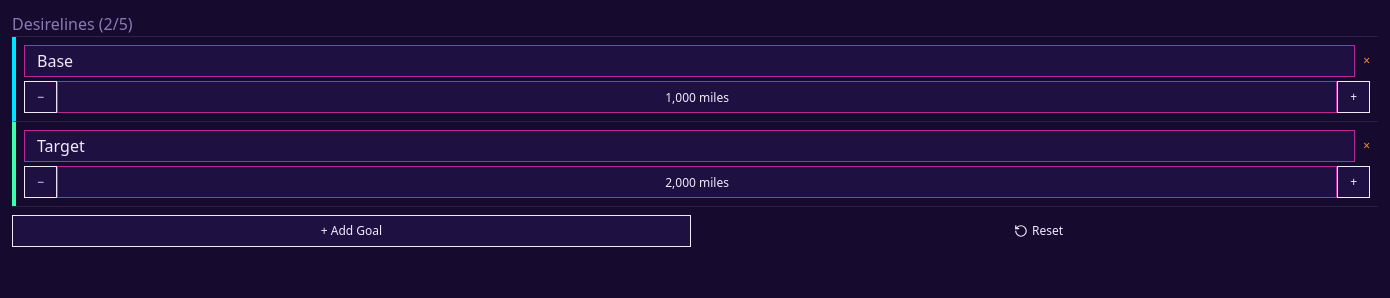
GoalControls › Inline Validation › clears error when user presses Escape
Note: Enter invalid value
Replace the text in the field showing "1000" with "-100" at (697, 97), box x1=57 y1=81 x2=1337 y2=113
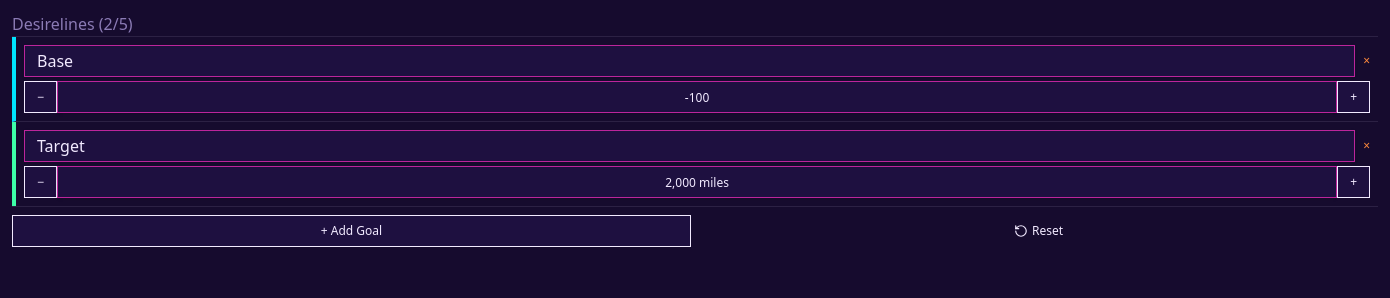
Leave the field showing "1000", box x1=57 y1=81 x2=1337 y2=113
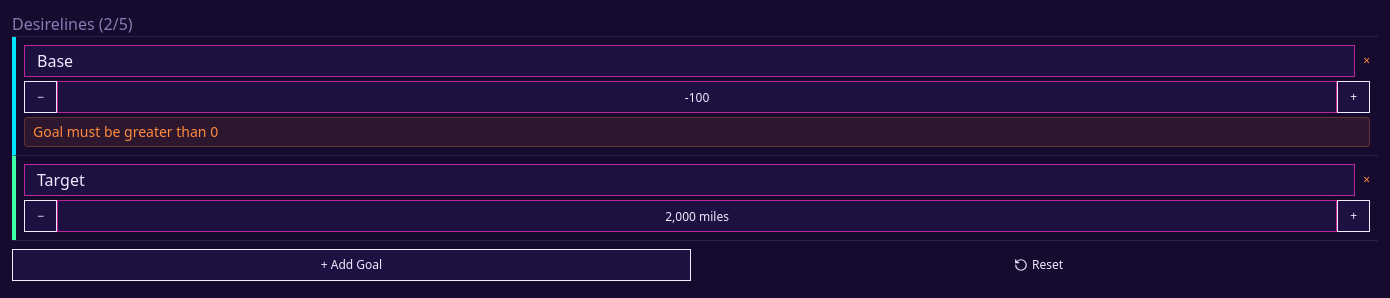
Expected: the message "Goal must be greater than 0" is shown, x1=24 y1=117 x2=1370 y2=147
Press Escape in the field showing "1000", box x1=57 y1=81 x2=1337 y2=113
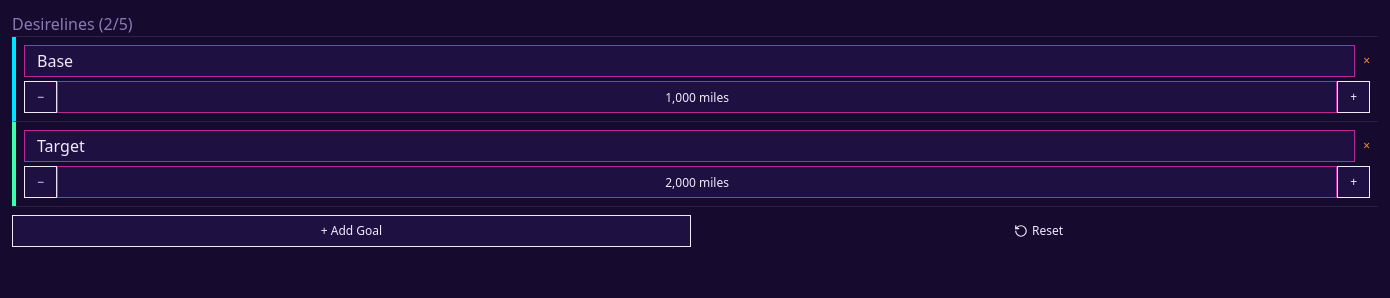
Expected: the message "Goal must be greater than 0" is gone
